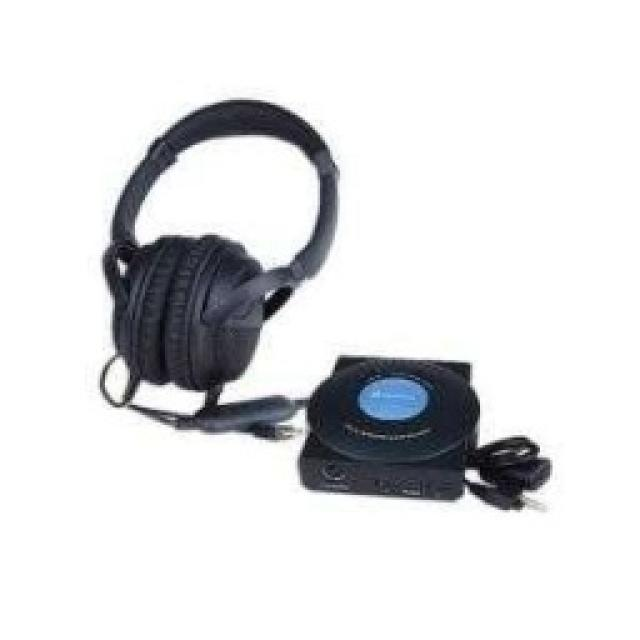headphones: (100, 95, 340, 393)
